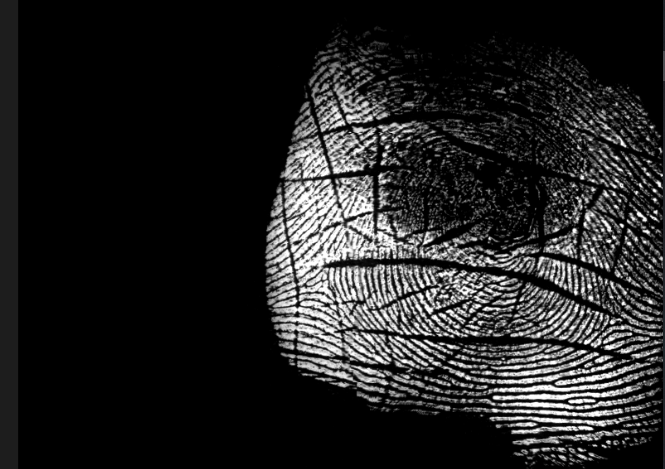nucelo: (493, 199, 521, 232)
verticilo: (594, 300, 633, 335), (306, 269, 340, 306)
